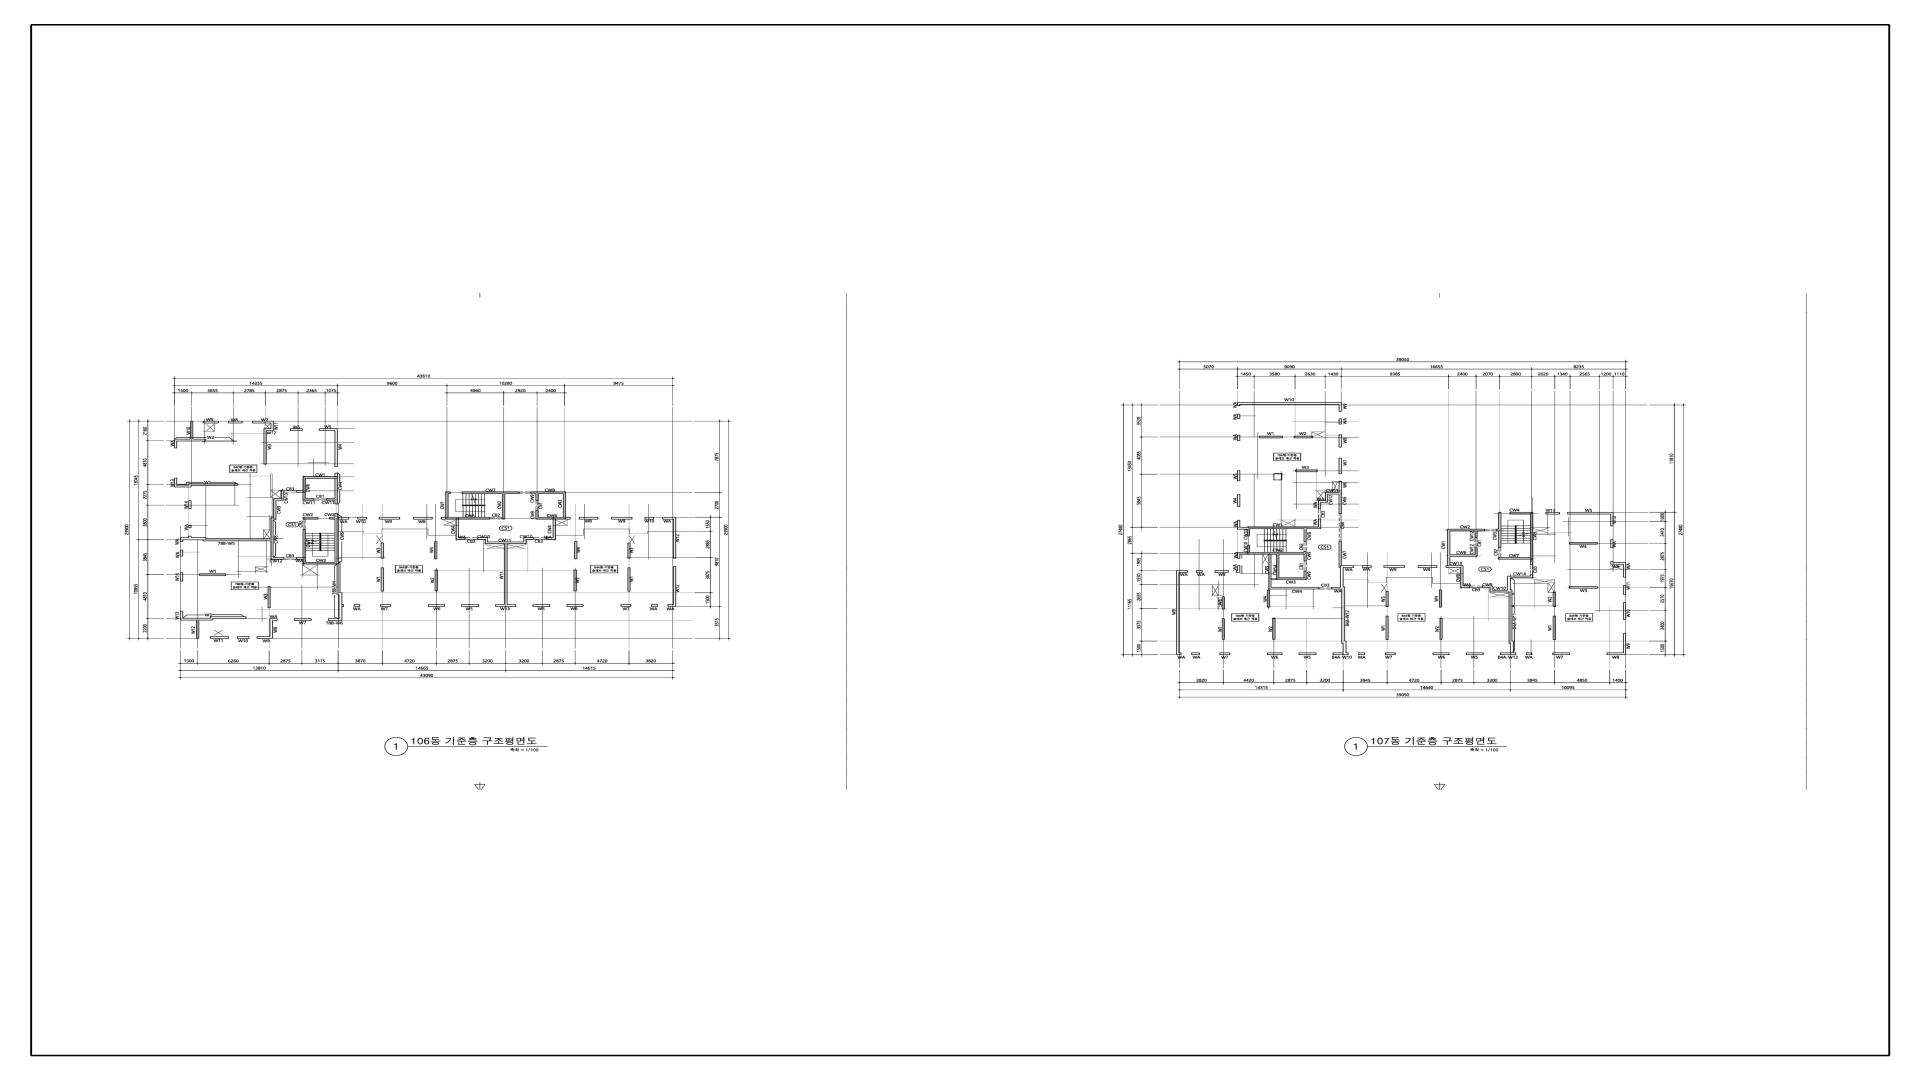wall: (297, 529, 335, 564), (1237, 402, 1342, 411), (1241, 526, 1321, 537), (1276, 555, 1307, 580), (181, 611, 247, 621), (1568, 512, 1614, 526), (174, 477, 237, 488), (1445, 566, 1470, 588), (1237, 551, 1307, 559), (270, 518, 284, 559), (1482, 576, 1513, 592), (1176, 572, 1182, 655), (1338, 541, 1354, 568), (1607, 633, 1626, 655), (1319, 492, 1342, 509), (257, 618, 277, 638), (328, 595, 343, 621), (667, 566, 676, 607), (477, 538, 534, 545), (535, 510, 571, 520), (174, 439, 206, 448), (1341, 589, 1346, 644), (1332, 568, 1345, 589), (1509, 592, 1514, 644), (1451, 547, 1478, 556), (252, 421, 274, 431), (303, 479, 314, 501), (335, 520, 340, 564), (504, 545, 508, 604), (546, 520, 556, 539), (336, 564, 343, 595), (1530, 514, 1534, 564), (1333, 644, 1349, 655), (1497, 512, 1502, 547), (456, 520, 465, 539), (181, 535, 207, 542), (207, 538, 270, 541), (462, 492, 520, 495), (446, 492, 451, 517), (440, 517, 491, 520), (330, 513, 349, 520), (1271, 587, 1320, 589), (273, 491, 285, 501), (674, 520, 676, 559), (1448, 529, 1485, 531), (335, 431, 338, 467), (530, 492, 566, 495), (1269, 555, 1271, 589), (1448, 531, 1451, 566), (1511, 575, 1534, 579), (264, 431, 266, 464), (303, 476, 335, 479), (335, 473, 338, 504), (1338, 495, 1342, 514), (1569, 542, 1598, 545), (190, 421, 194, 439), (199, 574, 227, 576), (1439, 589, 1443, 608), (273, 501, 277, 518), (434, 542, 438, 559), (1338, 458, 1342, 475), (381, 567, 384, 592), (502, 495, 505, 520), (628, 567, 630, 592), (1259, 435, 1283, 438), (1386, 616, 1389, 640), (1510, 512, 1534, 514), (1553, 616, 1556, 640), (378, 517, 401, 520), (563, 495, 566, 517), (1295, 469, 1317, 472), (574, 570, 576, 591), (268, 587, 270, 608), (435, 570, 438, 591), (496, 604, 517, 607), (612, 517, 633, 520), (1222, 618, 1225, 640), (1273, 618, 1275, 640), (1383, 566, 1404, 568), (1440, 618, 1443, 640), (413, 517, 433, 520), (579, 517, 599, 520), (1294, 435, 1313, 438), (1338, 434, 1342, 447), (1274, 473, 1282, 480), (1418, 566, 1437, 568), (319, 429, 338, 431), (1267, 589, 1270, 608), (1552, 653, 1571, 655), (1237, 495, 1241, 506), (575, 542, 578, 559), (533, 604, 550, 607), (567, 604, 584, 607), (196, 621, 199, 638), (294, 618, 311, 621), (462, 604, 479, 607), (1299, 653, 1316, 655), (1432, 653, 1449, 655), (1466, 653, 1484, 655), (1623, 603, 1626, 620), (203, 421, 219, 423), (381, 543, 384, 559), (429, 604, 444, 607), (628, 543, 630, 559), (1237, 471, 1241, 481), (1237, 520, 1241, 530), (1338, 481, 1342, 492), (1267, 653, 1283, 655), (1386, 591, 1389, 607), (1501, 653, 1516, 655), (1610, 562, 1626, 564), (1498, 558, 1530, 559), (228, 421, 243, 423), (303, 517, 318, 520), (662, 517, 676, 520), (1545, 512, 1560, 514), (1215, 570, 1229, 572), (1569, 587, 1598, 588), (1553, 592, 1556, 607), (1610, 539, 1614, 549), (1510, 644, 1514, 653), (290, 429, 303, 431), (1304, 529, 1307, 542), (1236, 566, 1241, 572), (1222, 596, 1225, 609), (1623, 564, 1626, 578), (1176, 570, 1188, 572), (380, 604, 390, 607), (621, 604, 632, 607), (1220, 653, 1230, 655), (1385, 653, 1395, 655), (210, 637, 229, 638), (1338, 418, 1342, 425), (1474, 531, 1478, 538), (189, 500, 191, 509), (181, 572, 183, 582), (326, 498, 335, 501), (357, 517, 367, 520), (645, 517, 654, 520), (1191, 653, 1200, 655), (1362, 566, 1371, 568), (1623, 585, 1626, 595), (1237, 414, 1241, 419), (1237, 435, 1241, 440), (1319, 518, 1321, 526), (1247, 545, 1250, 553), (181, 550, 183, 556), (297, 491, 303, 493), (353, 604, 360, 607), (535, 495, 538, 501), (651, 604, 658, 607), (1304, 555, 1307, 562), (1196, 570, 1203, 572), (1358, 653, 1365, 655), (1526, 653, 1532, 655), (237, 637, 249, 638), (189, 525, 191, 527), (343, 604, 344, 607)
